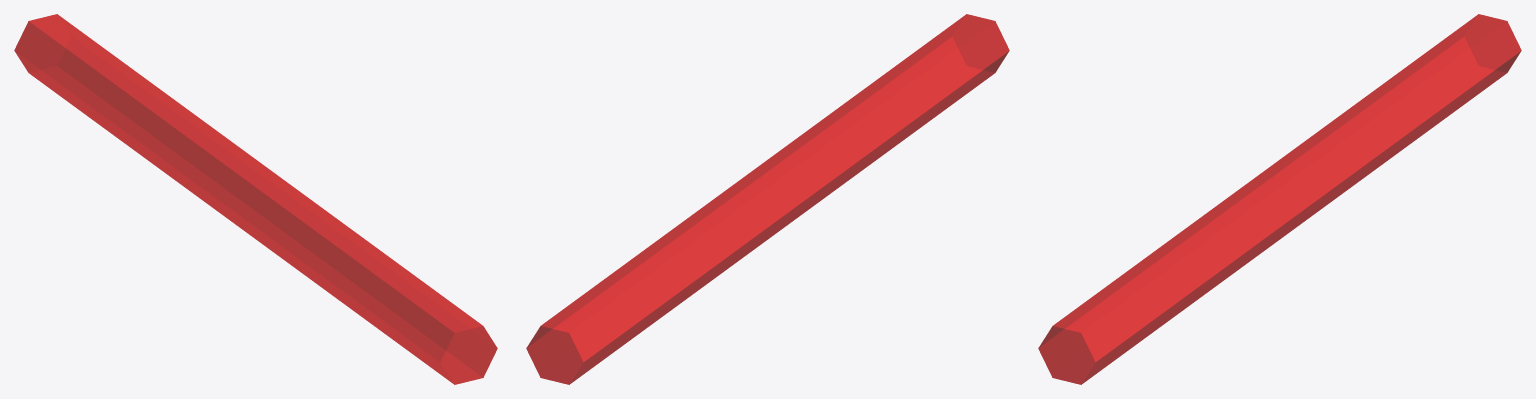
Rendered from LazerProjectile.fbx.
3 renders of one model, left to right at view 1: azimuth 30°, elevation 25°; view 2: azimuth 150°, elevation 25°; view 3: azimuth 330°, elevation 25°, orthographic.
Parts seen in each view (by area): view 1: pCylinder1; view 2: pCylinder1; view 3: pCylinder1.
Part boxes in pixels (x1,y1,x2,y2): pCylinder1: (14, 14, 497, 384); pCylinder1: (526, 14, 1009, 384); pCylinder1: (1038, 14, 1521, 384).
Size of the model in its own units: 1.7 by 1.47 by 21.87.
